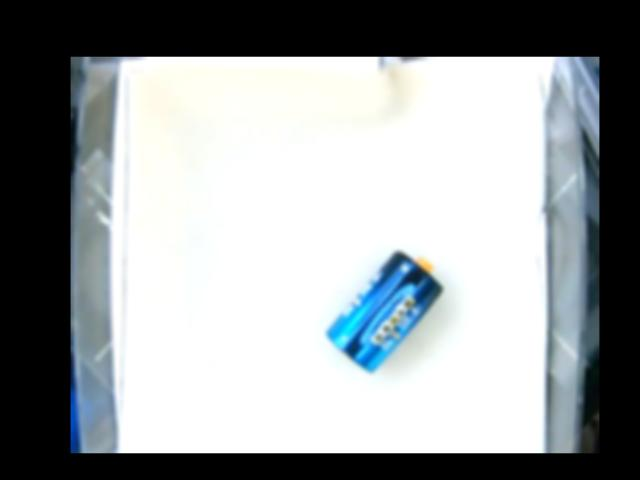Battery: (324, 247, 444, 374)
